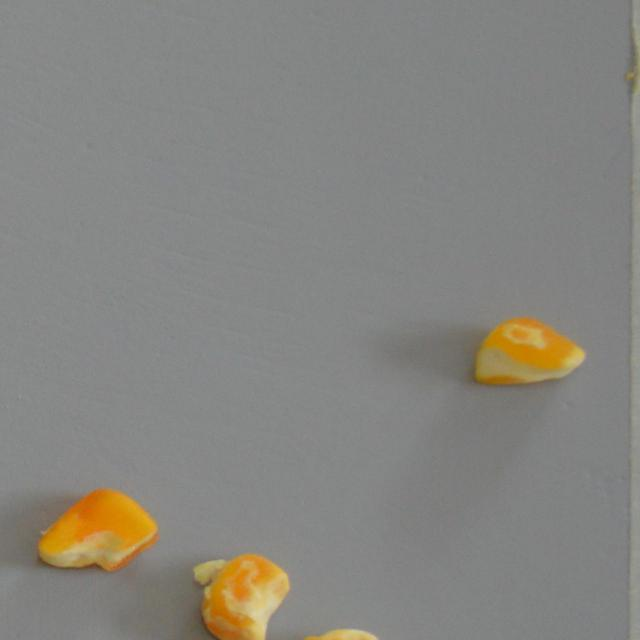dañado: (32, 484, 162, 578)
pelicula: (190, 540, 290, 640), (474, 316, 586, 388), (284, 626, 384, 640)
